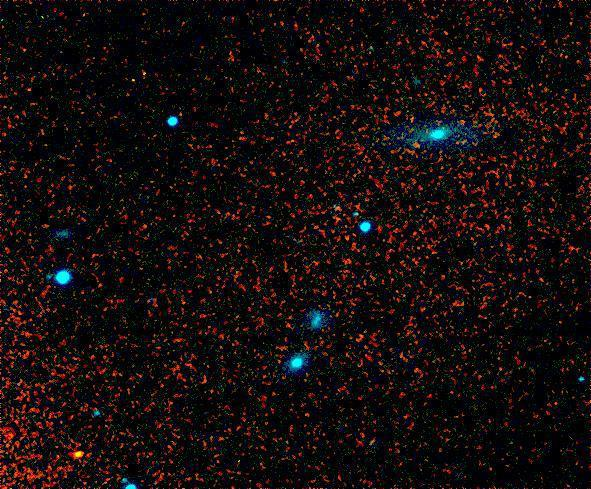star: (63, 442, 93, 472)
